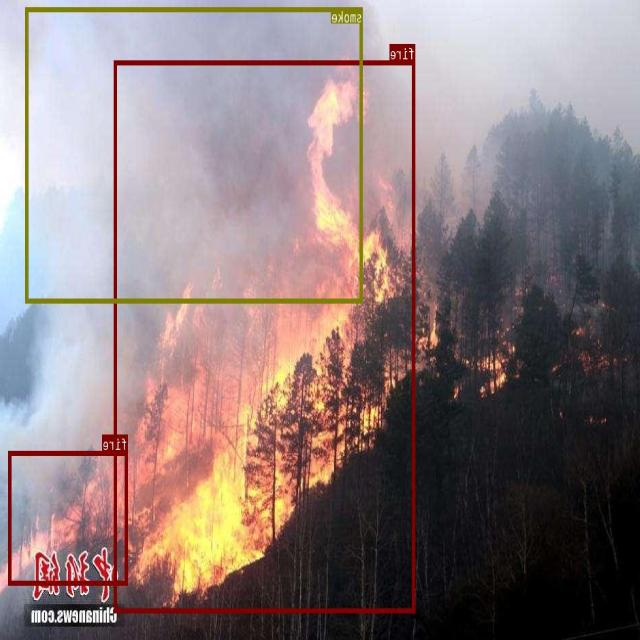fire: (114, 60, 416, 612), (9, 450, 128, 585)
smoke: (26, 7, 363, 302)
